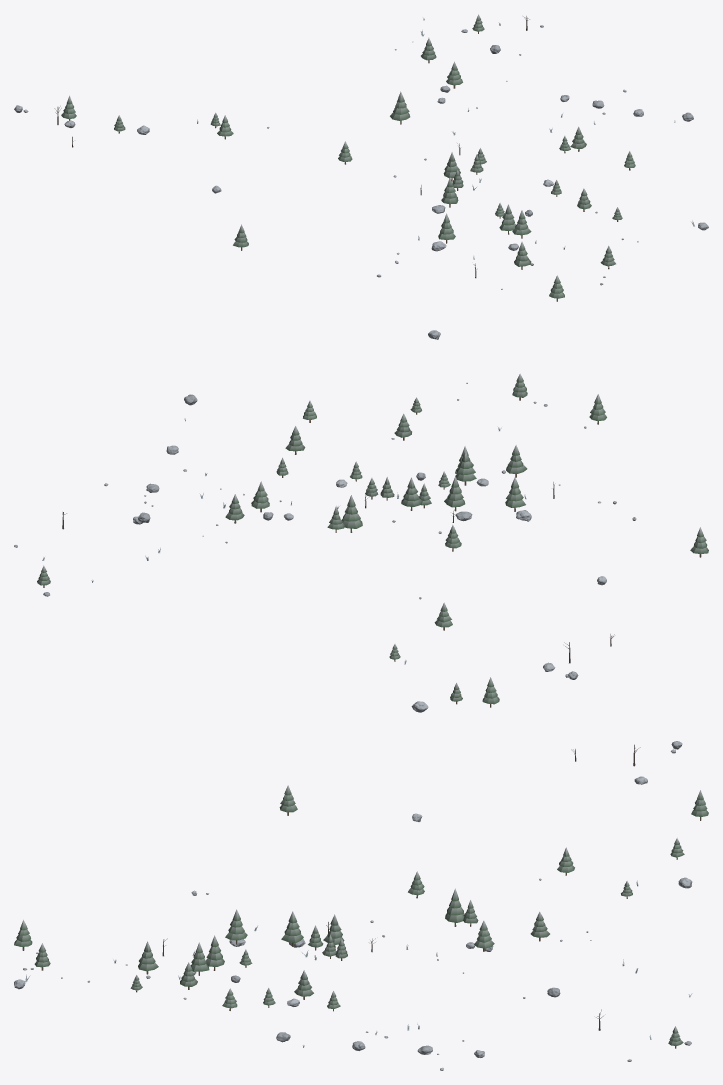
File: frost_land_scatter_c19_09.glb
3 renders of one model, top to bottom at view 1: azimuth 30°, elevation 25°; view 2: azimuth 150°, elevation 25°; view 3: azimuth 270°, elevation 25°, orthographic. The views are drawn at different scales.
Visible parts, largest first — view 1: frost_land_scatter_c19_09; view 2: frost_land_scatter_c19_09; view 3: frost_land_scatter_c19_09.
Part boxes in pixels (x1,y1,x2,y2): frost_land_scatter_c19_09: (14, 14, 708, 301); frost_land_scatter_c19_09: (14, 330, 708, 712); frost_land_scatter_c19_09: (14, 741, 708, 1070).
Size of the model in its own units: 254 by 46.23 by 257.
